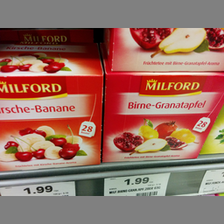tea: (1, 43, 104, 171), (104, 63, 223, 163)
